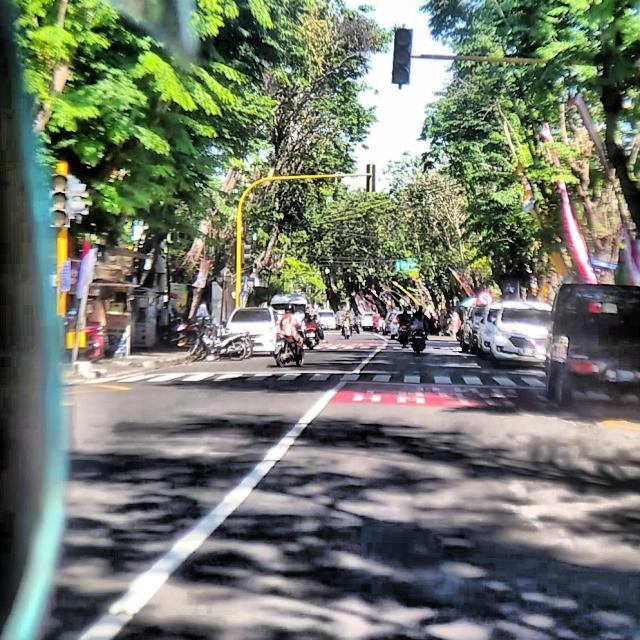yellow: (390, 30, 413, 86)
